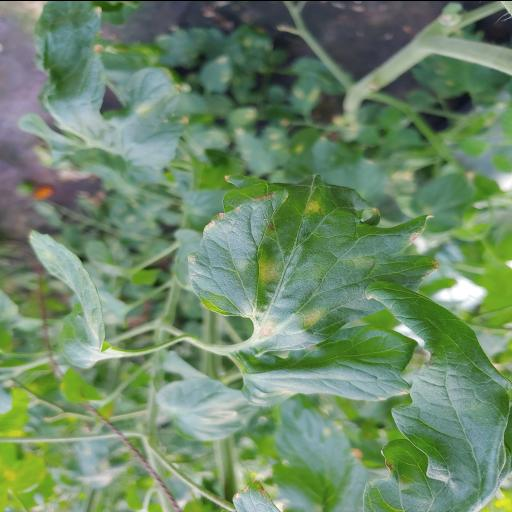disease_tomato: (187, 172, 437, 350)
